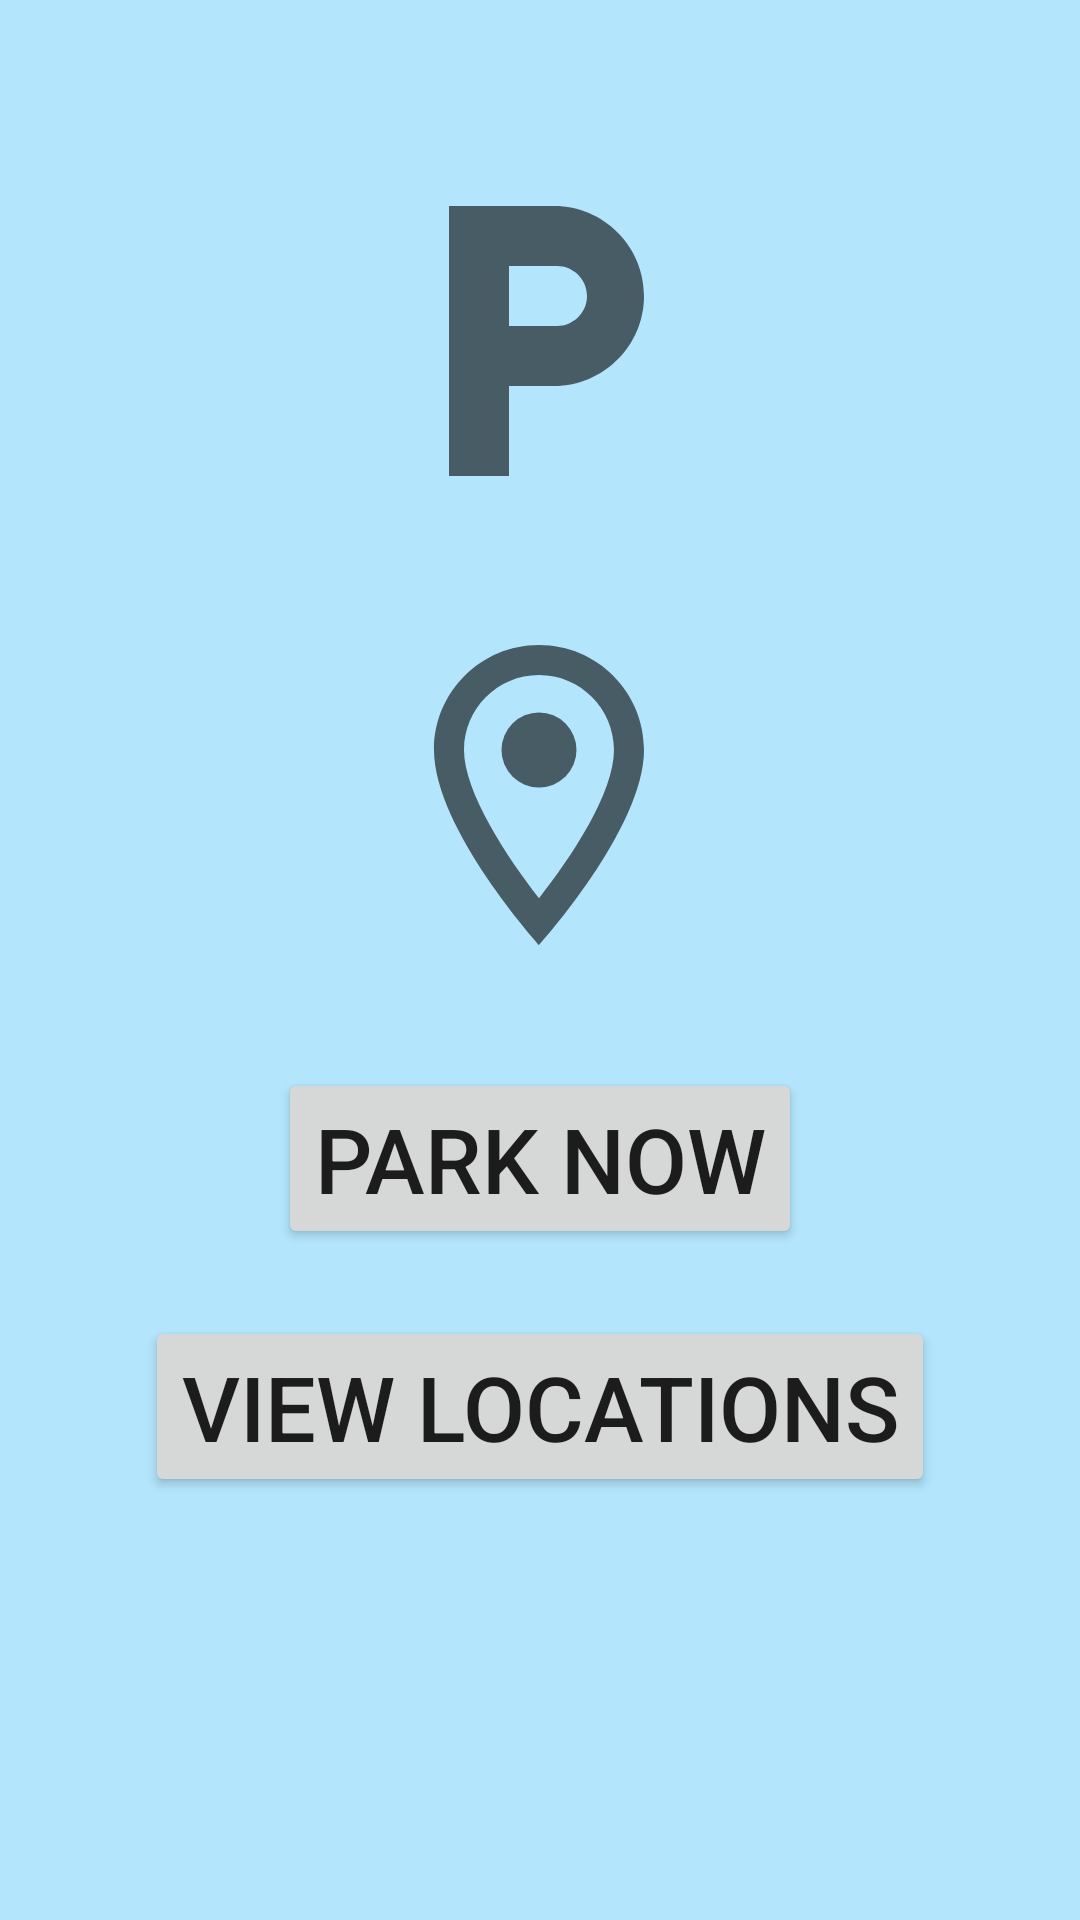

Screen size 1080*1920. Icon name, then its center in pixels as (x,y):
local parking: (546,341)
location on: (539,795)
